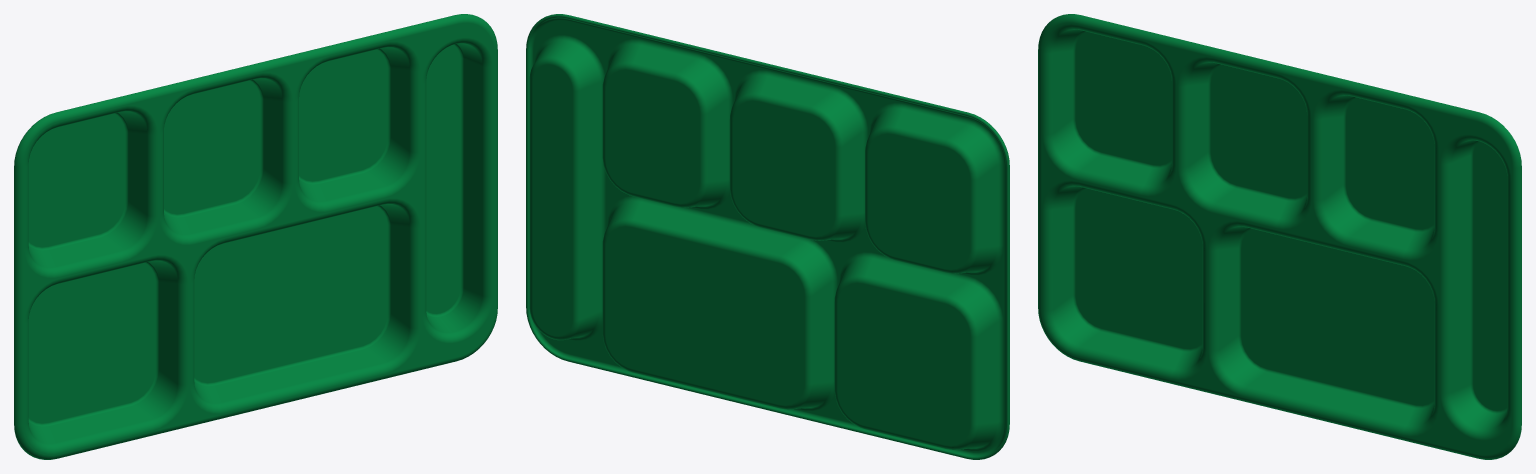
The model's file is Tepsi.glb.
3 renders of one model, left to right at view 1: azimuth 30°, elevation 25°; view 2: azimuth 150°, elevation 25°; view 3: azimuth 330°, elevation 25°, orthographic.
Visible parts, largest first — view 1: Tepsi; view 2: Tepsi; view 3: Tepsi.
Part boxes in pixels (x1,y1,x2,y2): Tepsi: [14, 14, 497, 459]; Tepsi: [526, 14, 1009, 459]; Tepsi: [1038, 14, 1521, 459].
Size of the model in its own units: 0.3646 by 0.2496 by 0.025.
